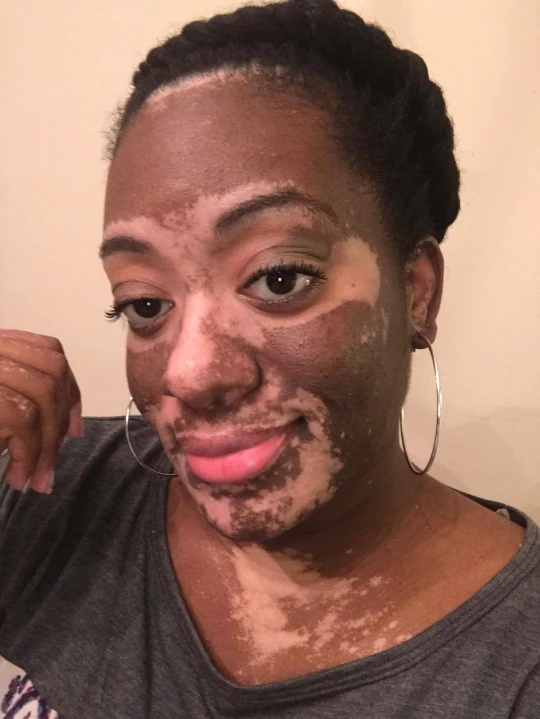Vitiligo: (100, 181, 392, 550)
